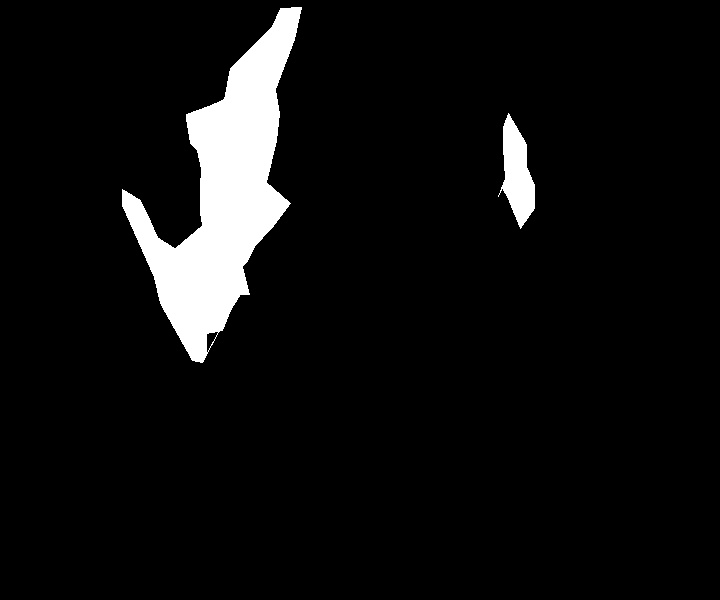Fire: (86, 29, 295, 358)
